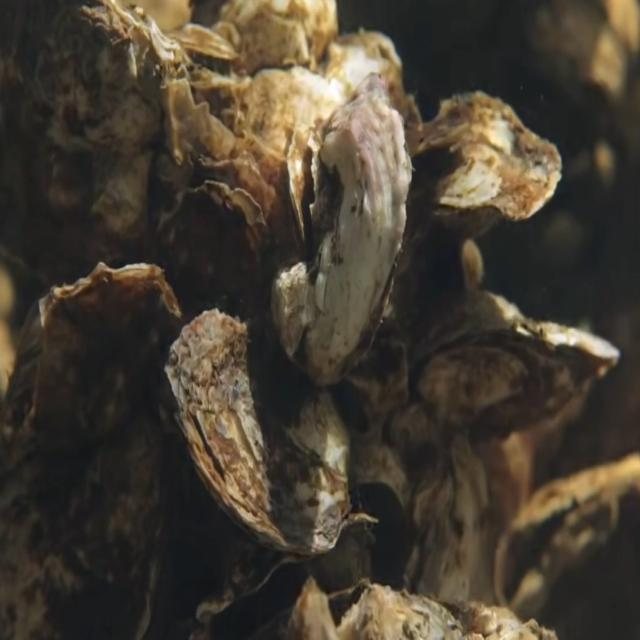Oyster-Closed: (0, 260, 183, 640), (160, 306, 354, 558), (268, 71, 412, 388), (407, 287, 640, 445), (388, 91, 564, 282), (398, 429, 496, 640)
Oyster-Indeterminate: (0, 0, 216, 325), (149, 178, 272, 330)
Oyster-Open: (491, 459, 640, 640), (194, 512, 378, 640)
